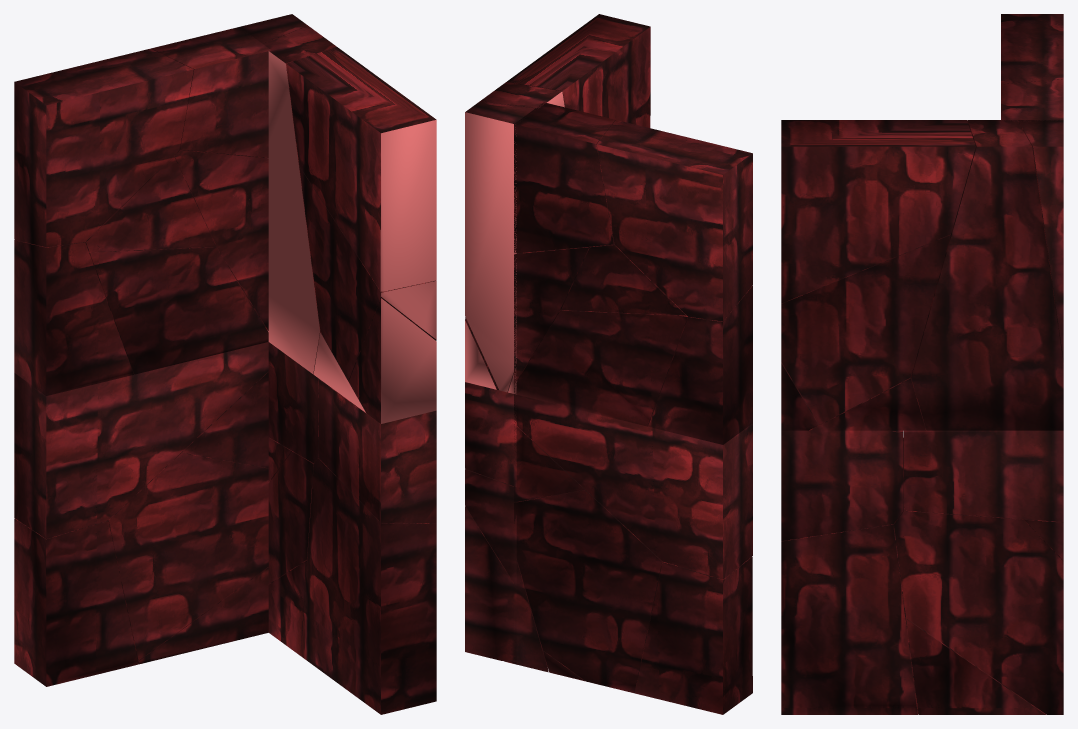
The model's file is Brick_House_Fractured.fbx.
3 renders of one model, left to right at view 1: azimuth 30°, elevation 25°; view 2: azimuth 150°, elevation 25°; view 3: azimuth 270°, elevation 25°, orthographic. The views are drawn at different scales.
Parts seen in each view (by area): view 1: Block_LOD0.023, Block_LOD0.001, Block_LOD0.015, Block_LOD0.010, Block_LOD0.025, Block_LOD0.022, Block_LOD0.005, Block_LOD0.003, Block_LOD0.013, Block_LOD0.016, Block_LOD0.002, Block_LOD0.009 (+10 smaller); view 2: Block_LOD0.023, Block_LOD0.001, Block_LOD0.025, Block_LOD0.022, Block_LOD0.005, Block_LOD0.007, Block_LOD0.002, Block_LOD0.003, Block_LOD0.010, Block_LOD0.018, Block_LOD0.004, Block_LOD0.006 (+5 smaller); view 3: Block_LOD0.013, Block_LOD0.010, Block_LOD0.018, Block_LOD0.015, Block_LOD0.009, Block_LOD0.017, Block_LOD0.016, Block_LOD0.020, Block_LOD0.007, Block_LOD0.001, Block_LOD0.012, Block_LOD0.002 (+2 smaller).
Boxes of the visible parts, x1,y1,x2,y2 form: Block_LOD0.023: (14,342,268,538); Block_LOD0.001: (14,48,193,247); Block_LOD0.015: (301,458,436,714); Block_LOD0.010: (286,47,436,291); Block_LOD0.025: (108,452,271,660); Block_LOD0.022: (14,518,138,686); Block_LOD0.005: (89,246,268,374); Block_LOD0.003: (14,240,133,395); Block_LOD0.013: (263,26,336,374); Block_LOD0.016: (318,379,436,523); Block_LOD0.002: (151,27,270,158); Block_LOD0.009: (299,166,436,380); Block_LOD0.023: (514,394,752,579); Block_LOD0.001: (596,120,752,321); Block_LOD0.025: (514,489,662,693); Block_LOD0.022: (635,556,752,714); Block_LOD0.005: (514,310,688,426); Block_LOD0.007: (465,101,534,392); Block_LOD0.002: (514,102,615,253); Block_LOD0.003: (648,285,752,444); Block_LOD0.010: (507,14,650,127); Block_LOD0.018: (465,506,516,660); Block_LOD0.004: (514,246,589,384); Block_LOD0.006: (561,244,686,315); Block_LOD0.013: (910,120,1063,430); Block_LOD0.010: (781,120,975,303); Block_LOD0.018: (894,507,1063,714); Block_LOD0.015: (781,523,918,714); Block_LOD0.009: (781,234,950,424); Block_LOD0.017: (904,428,1063,521); Block_LOD0.016: (781,430,903,540); Block_LOD0.020: (906,618,1046,714); Block_LOD0.007: (1018,120,1063,364); Block_LOD0.001: (1001,14,1063,84); Block_LOD0.012: (809,378,925,430); Block_LOD0.002: (1001,79,1063,121).
Size of what is drawn, in the model's own units: 100 by 200 by 90.
